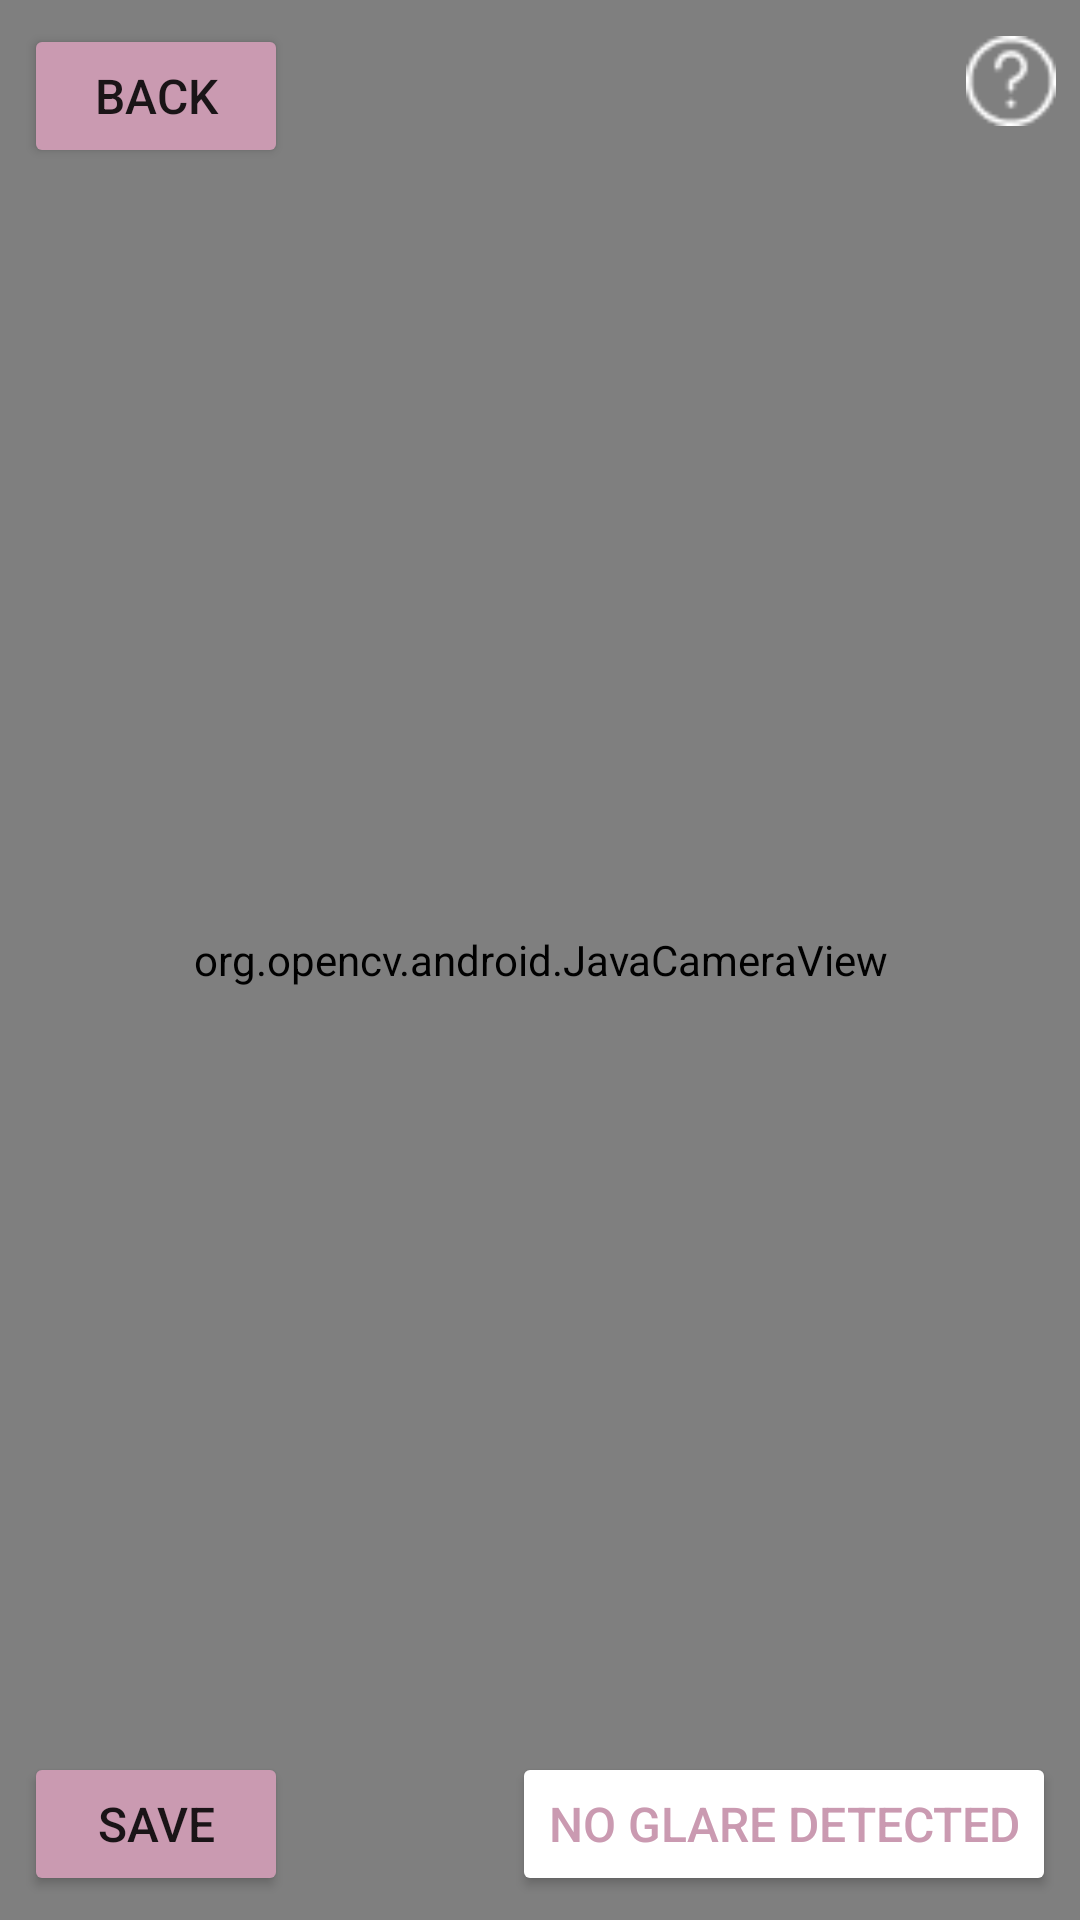

Where to tap for icons on this 1080*1920 app screen, as point (x, y):
guidance: point (1011, 81)
